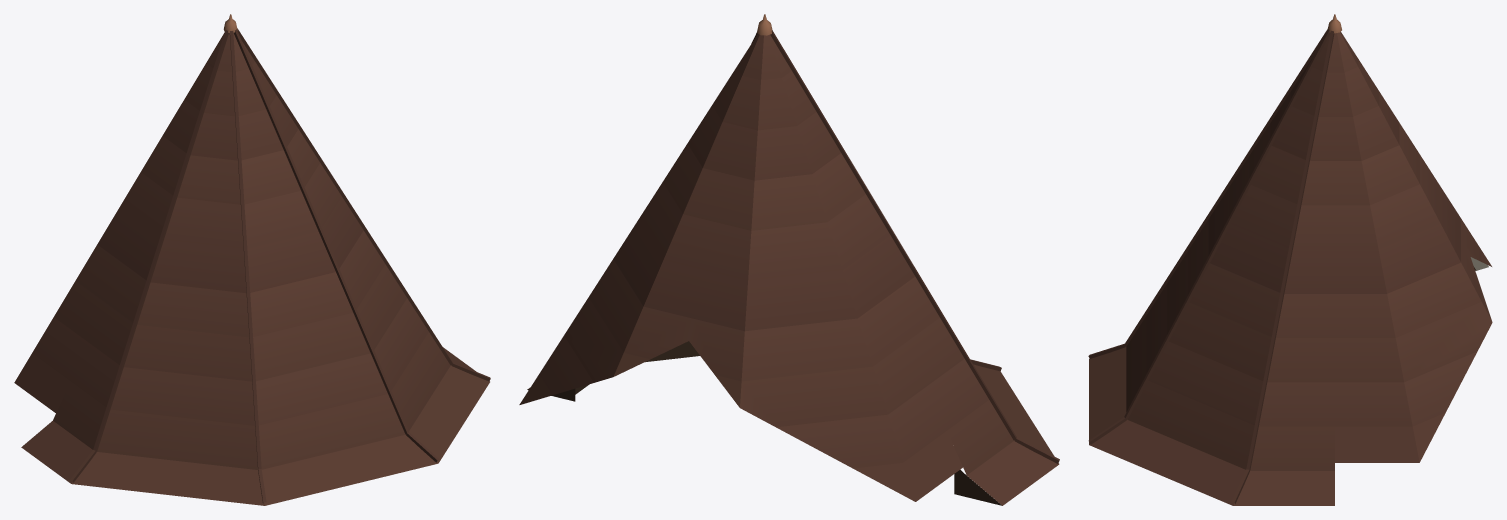
Rendered from roof.spire_faceted.hall.glb.
3 views of the same model, side by side, from view 1: azimuth 30°, elevation 25°; view 2: azimuth 150°, elevation 25°; view 3: azimuth 270°, elevation 25° (orthographic). The views are drawn at different scales.
Parts seen in each view (by area): view 1: roof_spire_faceted_hall; view 2: roof_spire_faceted_hall; view 3: roof_spire_faceted_hall.
Boxes of the visible parts, x1,y1,x2,y2 form: roof_spire_faceted_hall: (14,14,490,505); roof_spire_faceted_hall: (519,14,1059,505); roof_spire_faceted_hall: (1088,14,1492,505).
Size of what is drawn, in the model's own units: 17.28 by 15 by 14.17.
